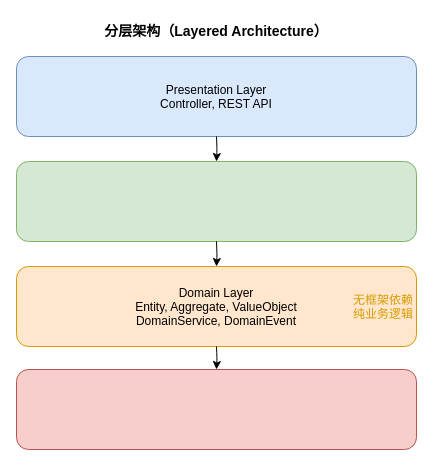
Image size: 433x466. Some labels were removed from this diagram. Each missing label, with the box of its shape:
Application Layer AppService, CQRS, DTO, Converter: (16, 160, 416, 242)
Infrastructure Layer Repository Impl, Mapper, External Client: (16, 368, 416, 450)
